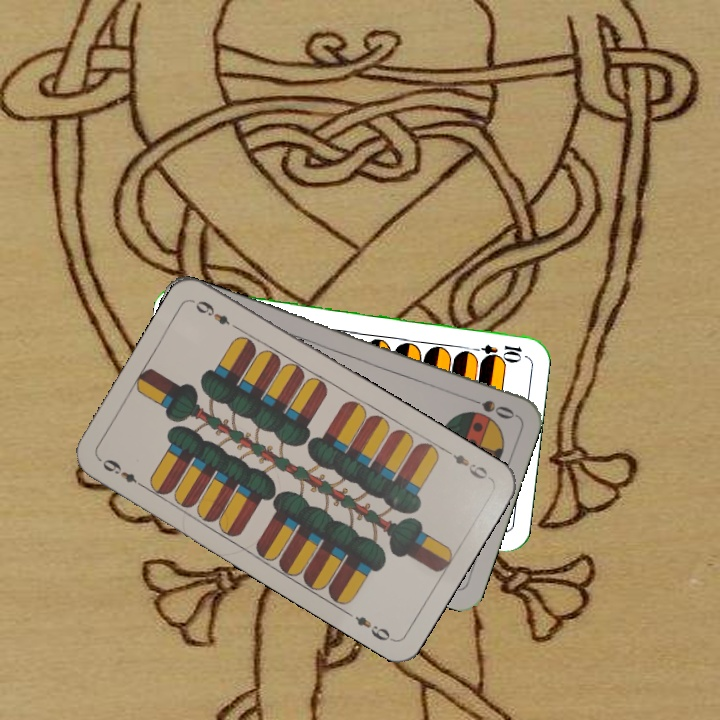E10: (465, 340, 525, 361)
E9: (98, 454, 149, 491), (441, 445, 490, 482)
SO: (460, 392, 518, 422)
